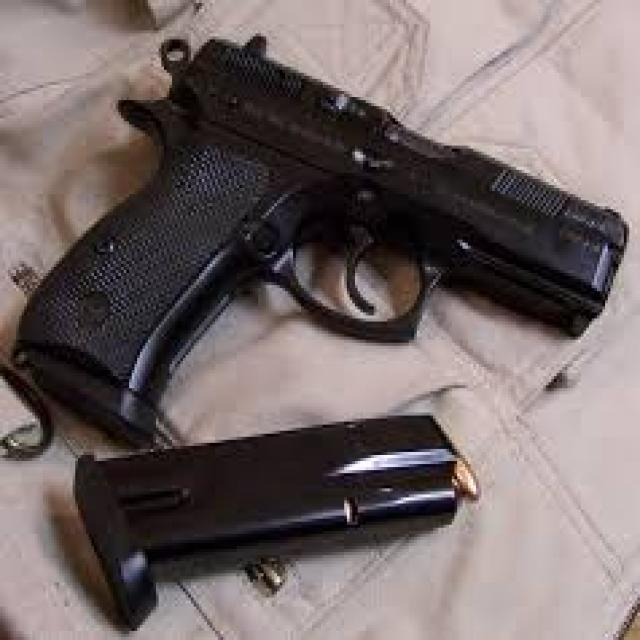semi automatic: (12, 24, 633, 446)
